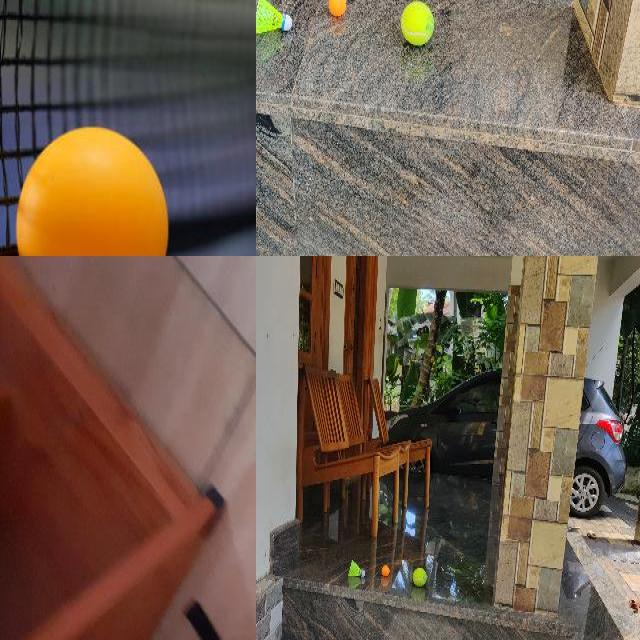ping-pong-ball: (17, 126, 170, 255), (329, 0, 346, 17), (381, 565, 389, 576)
